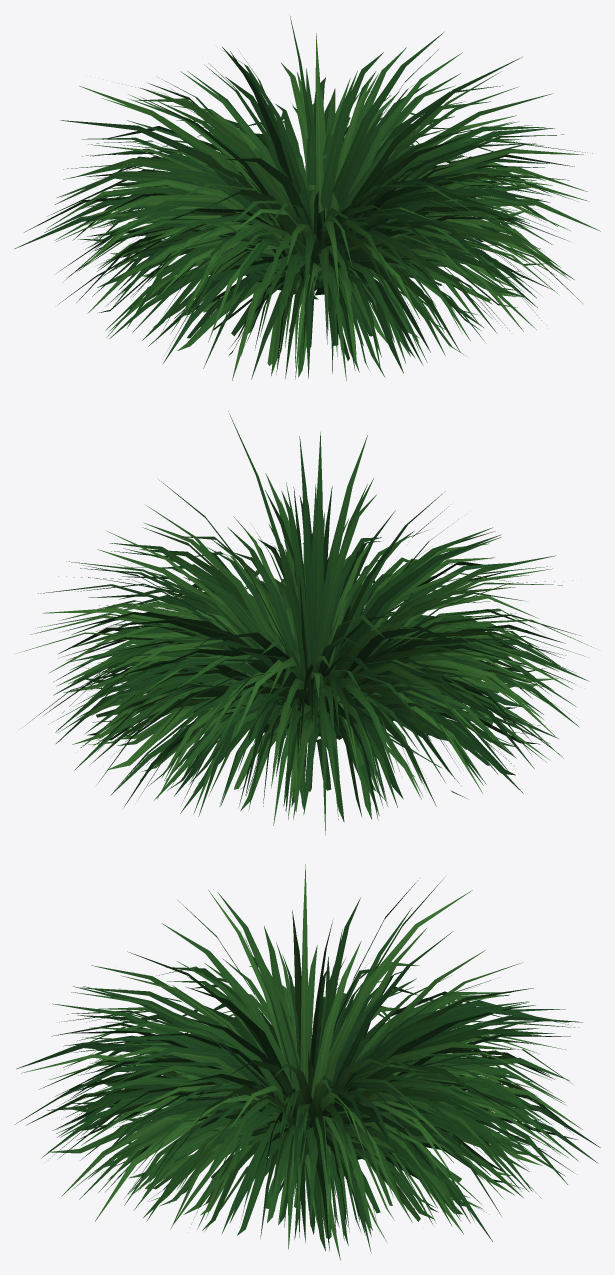
File: shade_grass_v01.fbx
3 views of the same model, one above another, from view 1: azimuth 30°, elevation 25°; view 2: azimuth 150°, elevation 25°; view 3: azimuth 270°, elevation 25° (orthographic). The views are drawn at different scales.
Visible parts, largest first — view 1: shade_grass_v01; view 2: shade_grass_v01; view 3: shade_grass_v01.
Part boxes in pixels (x1,y1,x2,y2): shade_grass_v01: [14, 16, 600, 380]; shade_grass_v01: [17, 411, 593, 835]; shade_grass_v01: [14, 864, 600, 1260].
Size of the model in its own units: 58.8 by 58.41 by 25.61.
Materials: 1 (1 with a texture image).
